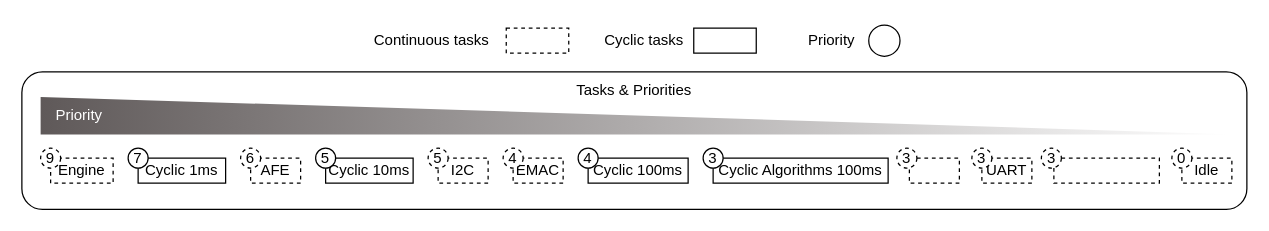
The diagram is 1269 pixels wide and 231 high, and some of its shapes have lost their labels. Here are the shapes that lost their labels. From the top down, the centre of each, then its label:
At point 933,170: "IP".
At point 1106,170: "IP- Application".
